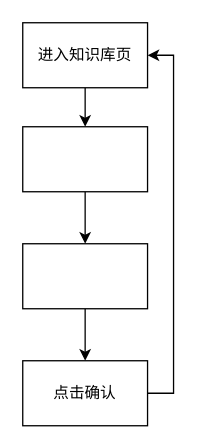
This 207x448 diagram has some shape labels left out. Each missing label, with the box of its shape:
修改知识库信息: (21, 242, 148, 309)
点击编辑: (21, 125, 148, 192)
